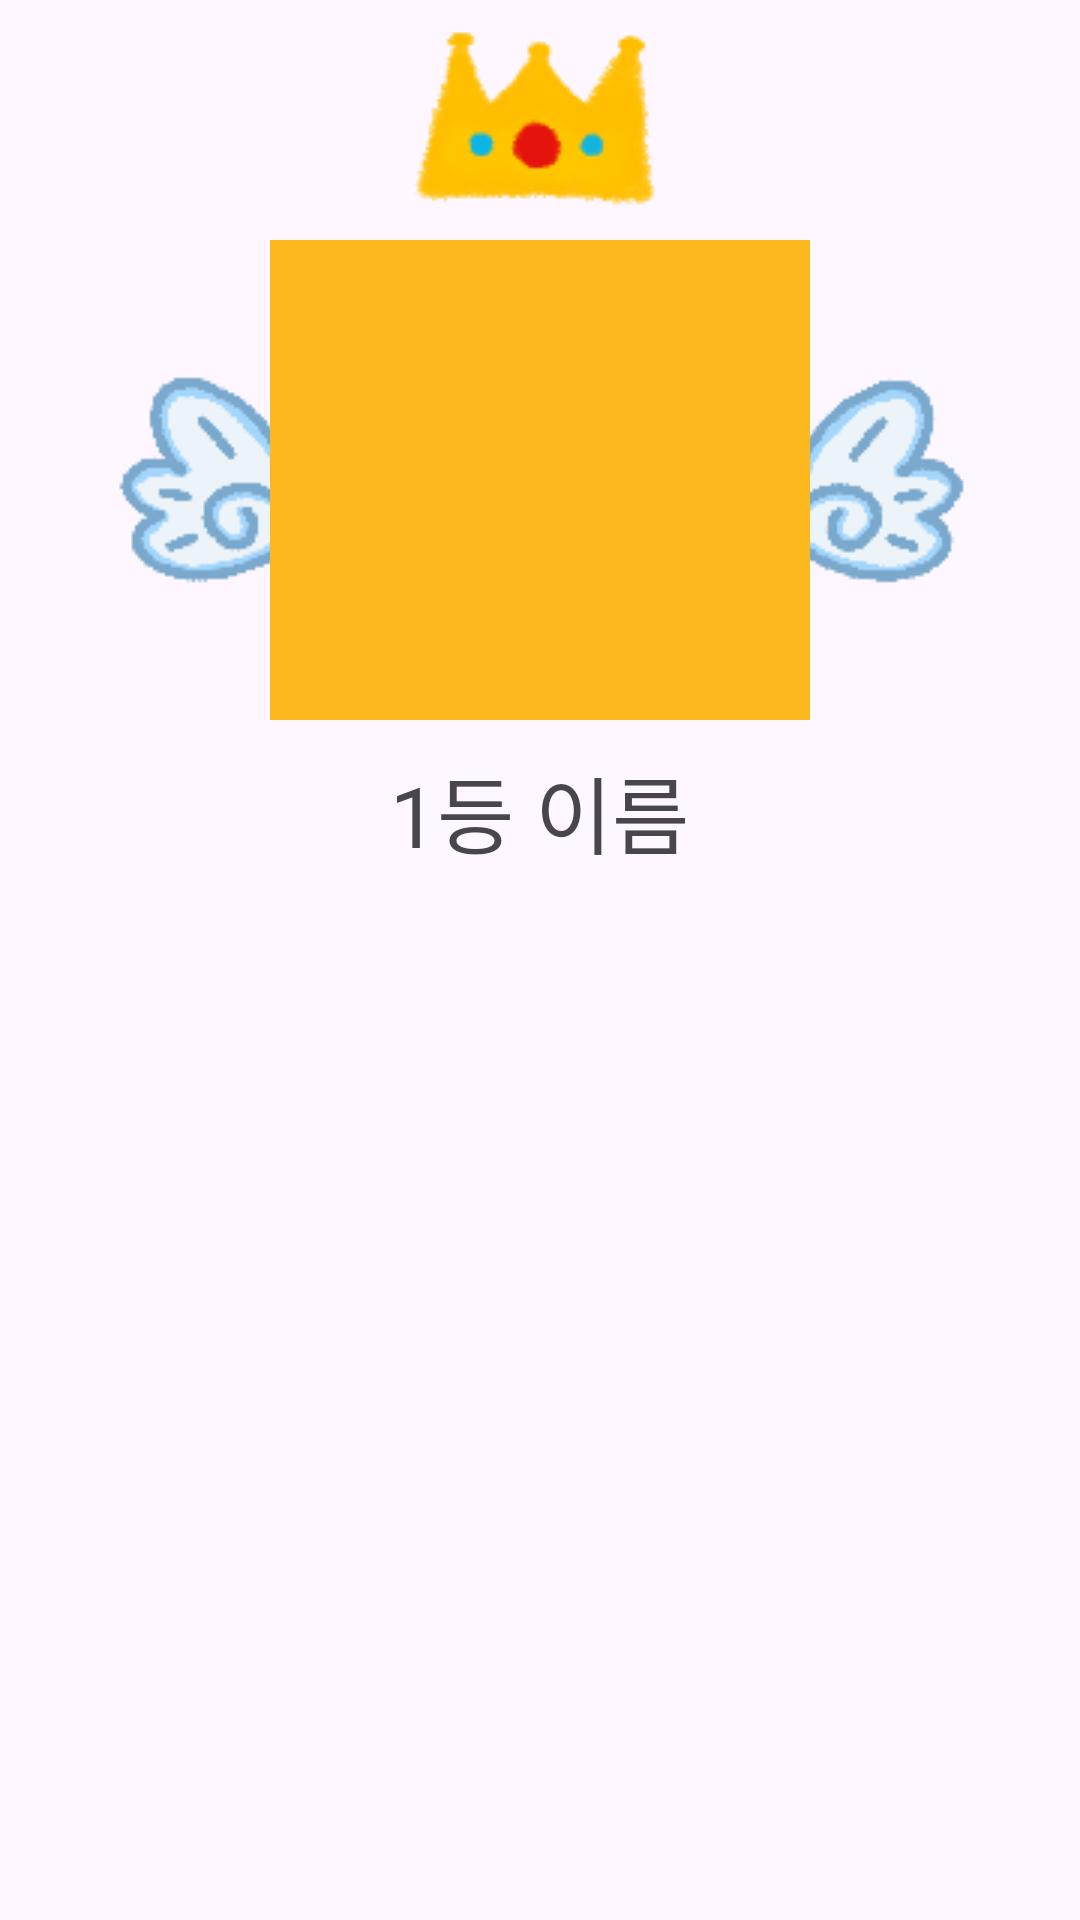

Point at icon controls on the screen. Image size 1080 x 1920, points as [x,y].
tiara: [535,118]
